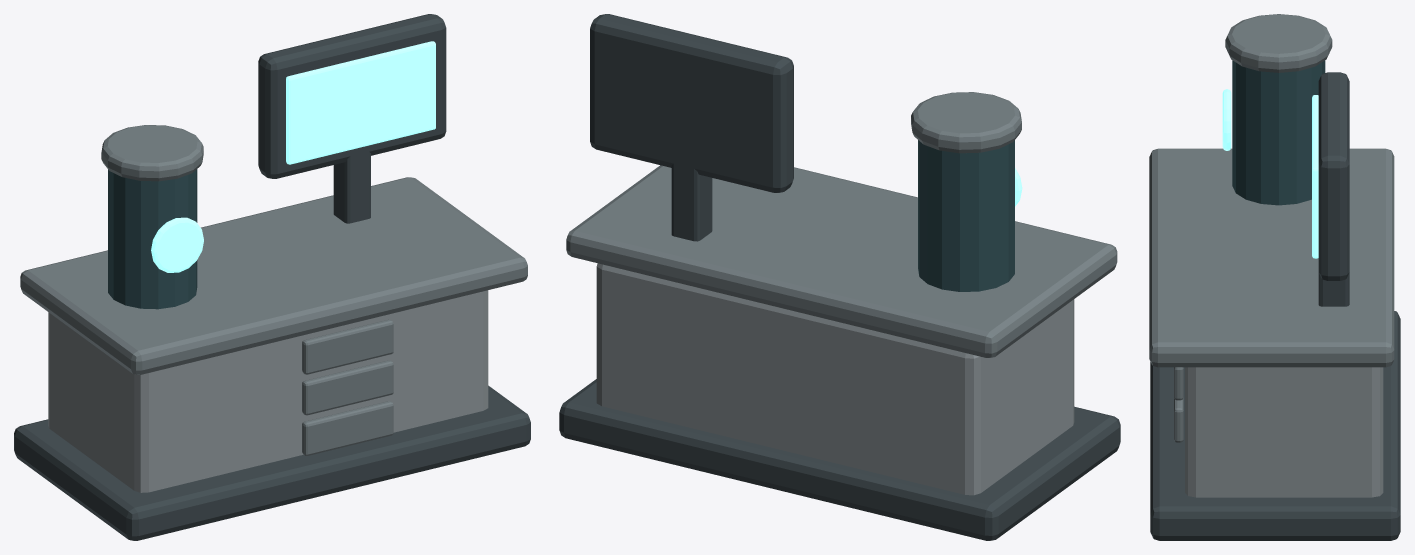
The model's file is MedicalStation_A.fbx.
3 renders of one model, left to right at view 1: azimuth 30°, elevation 25°; view 2: azimuth 150°, elevation 25°; view 3: azimuth 270°, elevation 25°, orthographic. The views are drawn at different scales.
Parts seen in each view (by area): view 1: Medical Station Worktop, Medical Station Cabinet, Medical Station Base, Medical Monitor Screen, Medical Monitor, Medical Fluid Canister, Medical Canister Cap, Medical Supply Drawer.002, Medical Supply Drawer.001, Medical Supply Drawer, Medical Monitor Mast, Medical Canister Light; view 2: Medical Station Cabinet, Medical Station Worktop, Medical Monitor, Medical Station Base, Medical Fluid Canister, Medical Canister Cap, Medical Monitor Mast; view 3: Medical Station Worktop, Medical Station Cabinet, Medical Station Base, Medical Fluid Canister, Medical Monitor, Medical Canister Cap, Medical Monitor Screen, Medical Monitor Mast, Medical Canister Light, Medical Supply Drawer, Medical Supply Drawer.001.
Part boxes in pixels (x1,y1,x2,y2): Medical Station Worktop: (20,177,527,374); Medical Station Cabinet: (48,290,488,492); Medical Station Base: (14,385,530,540); Medical Monitor Screen: (286,41,435,164); Medical Monitor: (258,14,446,178); Medical Fluid Canister: (108,169,197,309); Medical Canister Cap: (101,125,203,181); Medical Supply Drawer.002: (302,319,393,374); Medical Supply Drawer.001: (302,360,393,415); Medical Supply Drawer: (302,401,393,455); Medical Monitor Mast: (333,148,370,223); Medical Canister Light: (151,217,203,272); Medical Station Cabinet: (596,263,1074,495); Medical Station Worktop: (566,165,1117,357); Medical Monitor: (590,14,793,192); Medical Station Base: (559,379,1120,540); Medical Fluid Canister: (918,140,1014,291); Medical Canister Cap: (911,92,1021,153); Medical Monitor Mast: (671,113,712,241); Medical Station Worktop: (1149,148,1394,367); Medical Station Cabinet: (1185,367,1383,497); Medical Station Base: (1150,311,1400,540); Medical Fluid Canister: (1232,60,1325,205); Medical Monitor: (1318,72,1349,280); Medical Canister Cap: (1225,14,1332,72); Medical Monitor Screen: (1312,95,1318,258); Medical Monitor Mast: (1318,273,1349,306); Medical Canister Light: (1222,89,1231,150); Medical Supply Drawer: (1174,398,1183,442); Medical Supply Drawer.001: (1174,367,1183,400).
Bounding box in the file's own units: 2.8 × 2.45 × 1.45.
